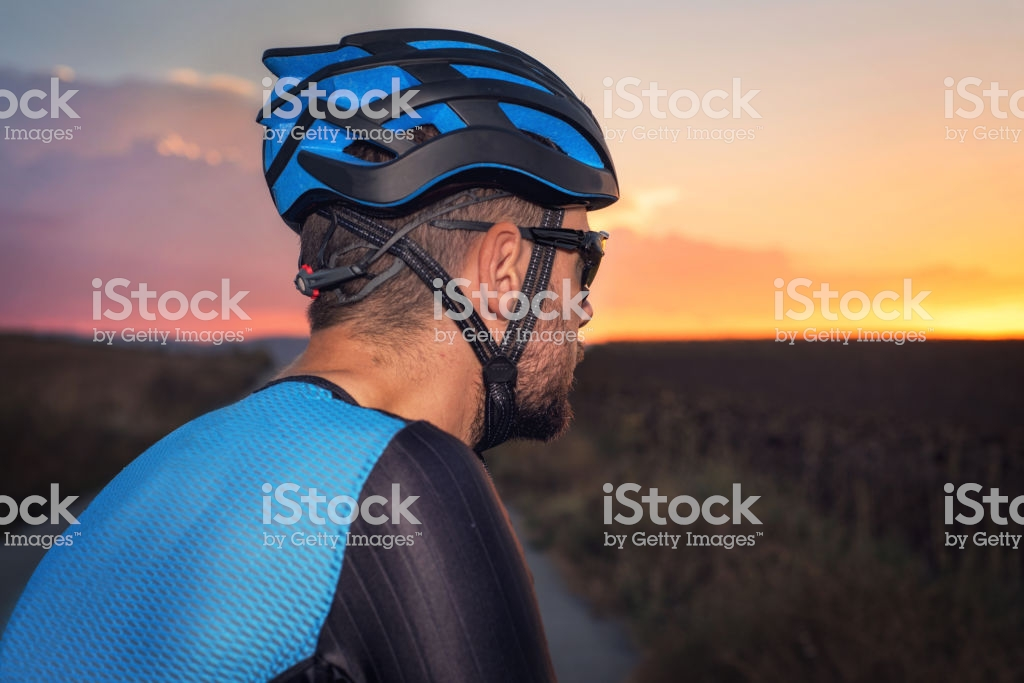helmet: (259, 35, 609, 216)
